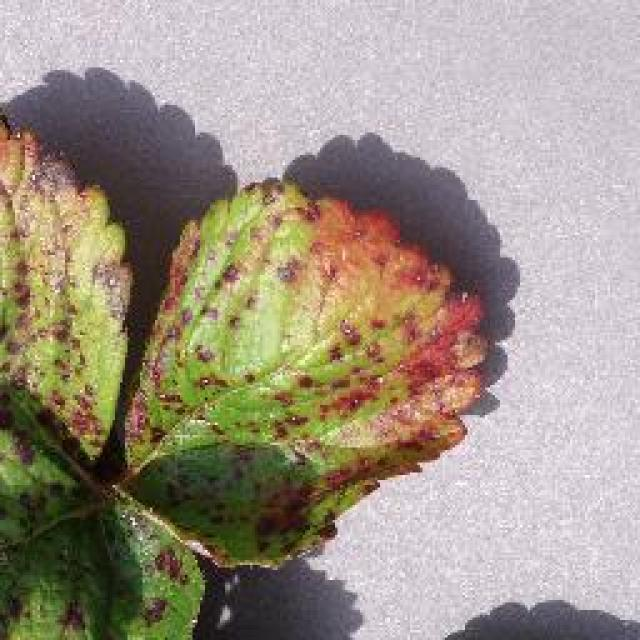Strawberry___Leaf_scorch: (0, 65, 444, 640)
